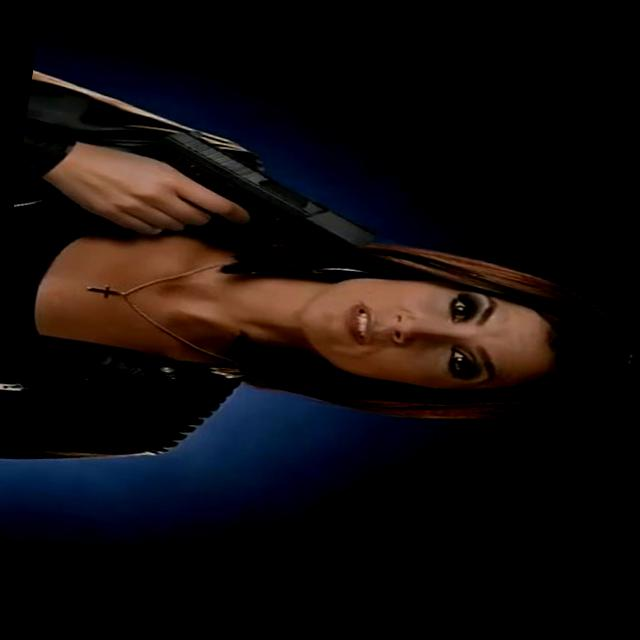handgun: (74, 106, 383, 272)
